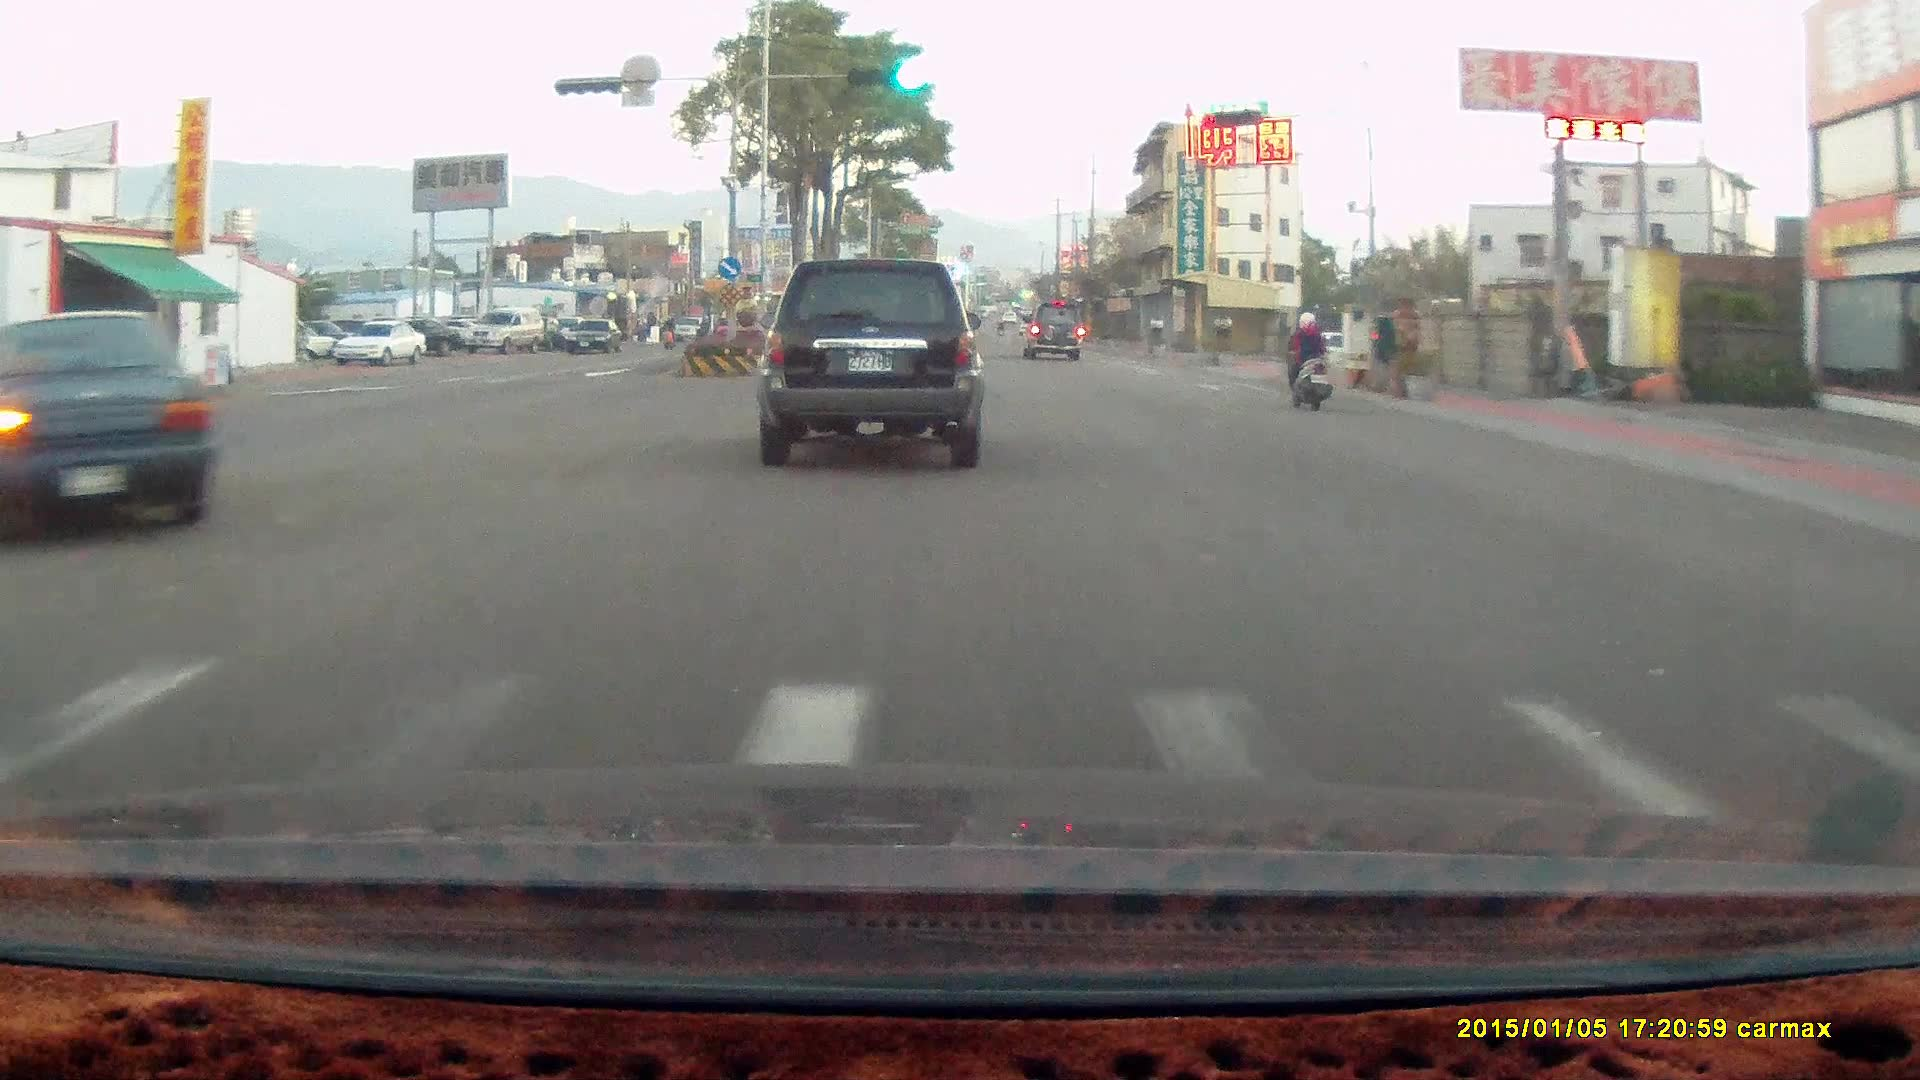rider: (1271, 301, 1344, 419), (1280, 306, 1332, 411)
vehicle: (0, 307, 222, 536), (1, 308, 223, 537), (763, 252, 994, 466), (758, 254, 984, 466), (331, 318, 424, 365), (461, 304, 546, 355), (336, 320, 427, 367), (462, 305, 544, 354), (1025, 299, 1085, 361), (1020, 299, 1083, 358), (378, 316, 460, 355), (564, 318, 623, 353)
